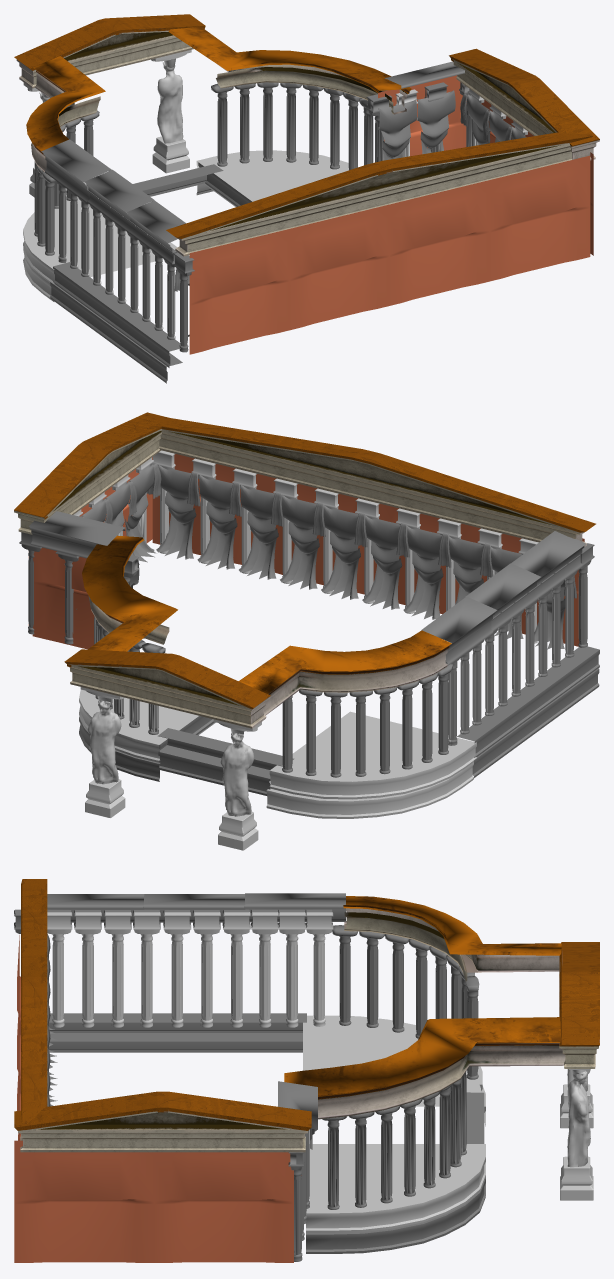
File: _empel.mtl.obj
3 views of the same model, one above another, from view 1: azimuth 30°, elevation 25°; view 2: azimuth 150°, elevation 25°; view 3: azimuth 270°, elevation 25° (orthographic). The views are drawn at different scales.
Parts seen in each view (by area): view 1: polySurface53_Mesh.056, polySurface64_Mesh.052, polySurface63_Mesh.051, polySurface62_Mesh.050, polySurface64.001_Mesh.062, polySurface18_Mesh.017, polySurface3_Mesh.005, MASH_ReproMesh4_Mesh.016, polySurface54_Mesh.057, polySurface18.001_Mesh.085, polySurface19_Mesh.018, polySurface8.002_Mesh.091 (+30 smaller); view 2: polySurface8_Mesh.007, polySurface53_Mesh.056, polySurface3_Mesh.005, polySurface15_Mesh.012, polySurface18.001_Mesh.085, polySurface46.001_Mesh.064, MASH_ReproMesh3_Mesh.001, polySurface54_Mesh.057, polySurface18_Mesh.017, polySurface64.004_Mesh.087, polySurface27_Mesh.026, pCube3_Mesh.003 (+34 smaller); view 3: polySurface7_Mesh.006, polySurface64.002_Mesh.063, polySurface64.003_Mesh.086, polySurface54_Mesh.057, polySurface18_Mesh.017, polySurface19_Mesh.018, MASH_ReproMesh4_Mesh.016, polySurface18.001_Mesh.085, MASH_ReproMesh3_Mesh.001, polySurface53_Mesh.056, polySurface3_Mesh.005, polySurface15_Mesh.012 (+14 smaller).
Boxes of the visible parts, x1,y1,x2,y2 form: polySurface53_Mesh.056: [166, 132, 592, 256]; polySurface64_Mesh.052: [489, 155, 590, 281]; polySurface63_Mesh.051: [289, 204, 389, 330]; polySurface62_Mesh.050: [189, 229, 290, 354]; polySurface64.001_Mesh.062: [389, 180, 489, 305]; polySurface18_Mesh.017: [168, 27, 411, 114]; polySurface3_Mesh.005: [14, 14, 205, 88]; MASH_ReproMesh4_Mesh.016: [211, 82, 373, 170]; polySurface54_Mesh.057: [449, 48, 599, 160]; polySurface18.001_Mesh.085: [26, 56, 105, 173]; polySurface19_Mesh.018: [196, 150, 358, 201]; polySurface8.002_Mesh.091: [378, 90, 455, 160]; polySurface8_Mesh.007: [156, 465, 565, 649]; polySurface53_Mesh.056: [145, 414, 595, 546]; polySurface3_Mesh.005: [64, 649, 270, 728]; polySurface15_Mesh.012: [269, 711, 476, 799]; polySurface18.001_Mesh.085: [239, 630, 451, 715]; polySurface46.001_Mesh.064: [152, 450, 538, 643]; MASH_ReproMesh3_Mesh.001: [282, 662, 453, 777]; polySurface54_Mesh.057: [14, 412, 167, 534]; polySurface18_Mesh.017: [82, 535, 177, 651]; polySurface64.004_Mesh.087: [32, 547, 94, 649]; polySurface27_Mesh.026: [266, 762, 473, 818]; pCube3_Mesh.003: [213, 719, 261, 850]; polySurface7_Mesh.006: [47, 912, 333, 1027]; polySurface64.002_Mesh.063: [14, 1140, 154, 1262]; polySurface64.003_Mesh.086: [154, 1152, 293, 1262]; polySurface54_Mesh.057: [14, 1091, 311, 1152]; polySurface18_Mesh.017: [284, 1017, 565, 1119]; polySurface19_Mesh.018: [306, 1144, 485, 1232]; MASH_ReproMesh4_Mesh.016: [322, 1071, 466, 1209]; polySurface18.001_Mesh.085: [343, 896, 561, 981]; MASH_ReproMesh3_Mesh.001: [332, 925, 479, 1079]; polySurface53_Mesh.056: [21, 879, 47, 1123]; polySurface3_Mesh.005: [559, 942, 599, 1068]; polySurface15_Mesh.012: [303, 1015, 482, 1092].
Size of the model in its own units: 0.8131 by 0.3048 by 0.8016.
